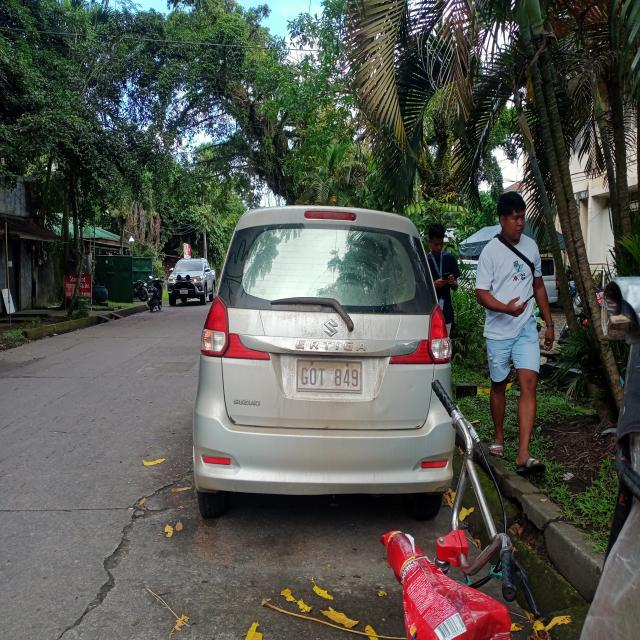plate: (295, 358, 364, 394)
